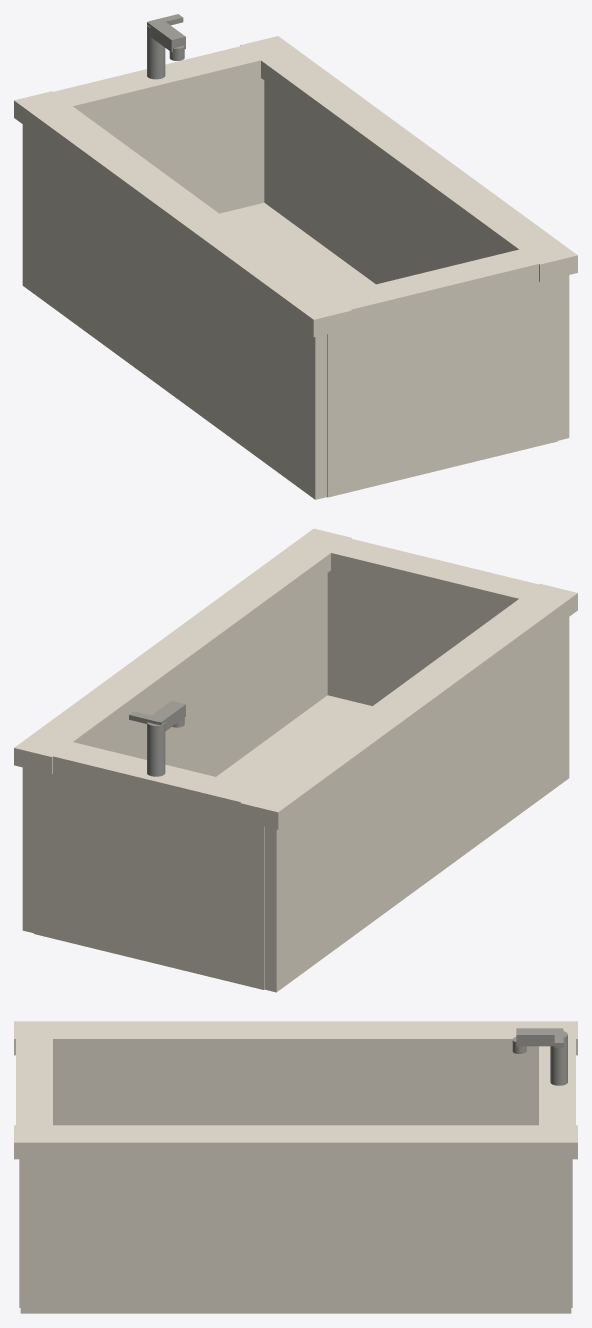
The model's file is bathtub.glb.
3 views of the same model, one above another, from view 1: azimuth 30°, elevation 25°; view 2: azimuth 150°, elevation 25°; view 3: azimuth 270°, elevation 25° (orthographic). The views are drawn at different scales.
Parts seen in each view (by area): view 1: Bath side, Bath end, Bath side.001, Long rim, Long rim.001, Bath end.001, End rim, End rim.001, Tub floor, Faucet stem.001, Spout.001; view 2: Bath side, Bath end.001, Bath side.001, Long rim, Long rim.001, Bath end, End rim, End rim.001, Tub floor, Faucet stem.001, Spout.001; view 3: Bath side.001, Bath side, Long rim.001, Long rim, End rim, End rim.001, Spout.001, Faucet stem.001.
Part boxes in pixels (box(x1,y1,x2,y2)): Bath side: box(22, 124, 327, 499); Bath end: box(327, 278, 557, 497); Bath side.001: box(264, 80, 569, 440); Long rim: box(14, 91, 351, 336); Long rim.001: box(240, 36, 577, 281); Bath end.001: box(91, 78, 264, 213); End rim: box(305, 243, 564, 326); End rim.001: box(27, 40, 286, 119); Tub floor: box(220, 202, 375, 295); Faucet stem.001: box(147, 25, 165, 79); Spout.001: box(147, 19, 185, 52); Bath side: box(264, 617, 569, 992); Bath end.001: box(34, 770, 264, 989); Bath side.001: box(22, 573, 327, 933); Long rim: box(240, 583, 577, 829); Long rim.001: box(14, 528, 351, 774); Bath end: box(327, 570, 500, 705); End rim: box(305, 532, 564, 611); End rim.001: box(32, 736, 286, 819); Tub floor: box(216, 695, 372, 787); Faucet stem.001: box(147, 722, 165, 776); Spout.001: box(147, 701, 185, 731); Bath side.001: box(20, 1159, 571, 1313); Bath side: box(53, 1055, 538, 1125); Long rim.001: box(14, 1125, 577, 1159); Long rim: box(14, 1021, 577, 1055); End rim: box(16, 1026, 52, 1137); End rim.001: box(539, 1026, 575, 1137); Spout.001: box(516, 1028, 562, 1046); Faucet stem.001: box(550, 1031, 567, 1085).
Size of the model in its own units: 0.855 by 0.735 by 1.68.
